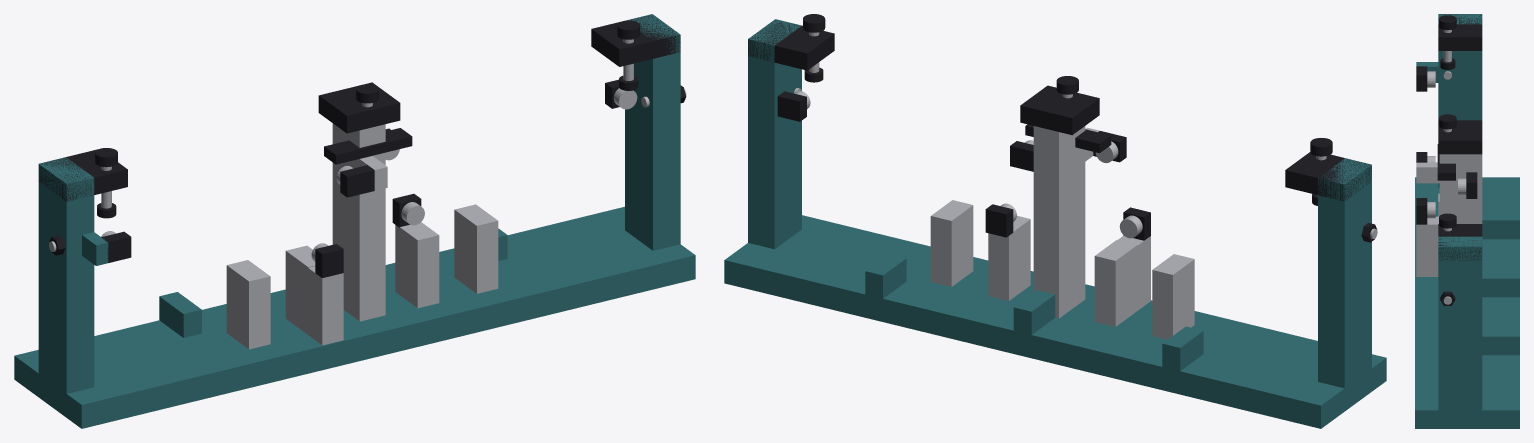
The model's file is fixture_part00_phase30.glb.
3 views of the same model, side by side, from view 1: azimuth 30°, elevation 25°; view 2: azimuth 150°, elevation 25°; view 3: azimuth 270°, elevation 25° (orthographic). The views are drawn at different scales.
Parts seen in each view (by area): view 1: fixture__fx_paint, fixture__fx_steel, fixture__fx_oxide, top_clamp_2__fx_oxide, top_clamp_3__fx_oxide, top_clamp_1__fx_oxide; view 2: fixture__fx_paint, fixture__fx_steel, fixture__fx_oxide, top_clamp_2__fx_oxide, top_clamp_3__fx_oxide; view 3: fixture__fx_paint, fixture__fx_oxide, fixture__fx_steel, top_clamp_2__fx_oxide, top_clamp_1__fx_oxide, top_clamp_3__fx_oxide, top_clamp_1__fx_steel.
Part boxes in pixels (x1=…): fixture__fx_paint: x1=14, y1=14, x2=695, y2=428; fixture__fx_steel: x1=49, y1=88, x2=686, y2=349; fixture__fx_oxide: x1=38, y1=15, x2=686, y2=277; top_clamp_2__fx_oxide: x1=324, y1=84, x2=412, y2=164; top_clamp_3__fx_oxide: x1=617, y1=20, x2=640, y2=90; top_clamp_1__fx_oxide: x1=95, y1=148, x2=117, y2=218; fixture__fx_paint: x1=724, y1=19, x2=1386, y2=428; fixture__fx_steel: x1=794, y1=88, x2=1377, y2=339; fixture__fx_oxide: x1=748, y1=20, x2=1377, y2=242; top_clamp_2__fx_oxide: x1=1025, y1=76, x2=1111, y2=153; top_clamp_3__fx_oxide: x1=803, y1=14, x2=825, y2=82; fixture__fx_paint: x1=1415, y1=14, x2=1519, y2=428; fixture__fx_oxide: x1=1416, y1=14, x2=1482, y2=305; fixture__fx_steel: x1=1416, y1=71, x2=1482, y2=304; top_clamp_2__fx_oxide: x1=1437, y1=114, x2=1456, y2=180; top_clamp_1__fx_oxide: x1=1439, y1=15, x2=1456, y2=69; top_clamp_3__fx_oxide: x1=1439, y1=213, x2=1456, y2=228; top_clamp_1__fx_steel: x1=1443, y1=30, x2=1451, y2=62.
Bounding box in the file's own units: 0.8272 × 0.3121 × 0.1528.
